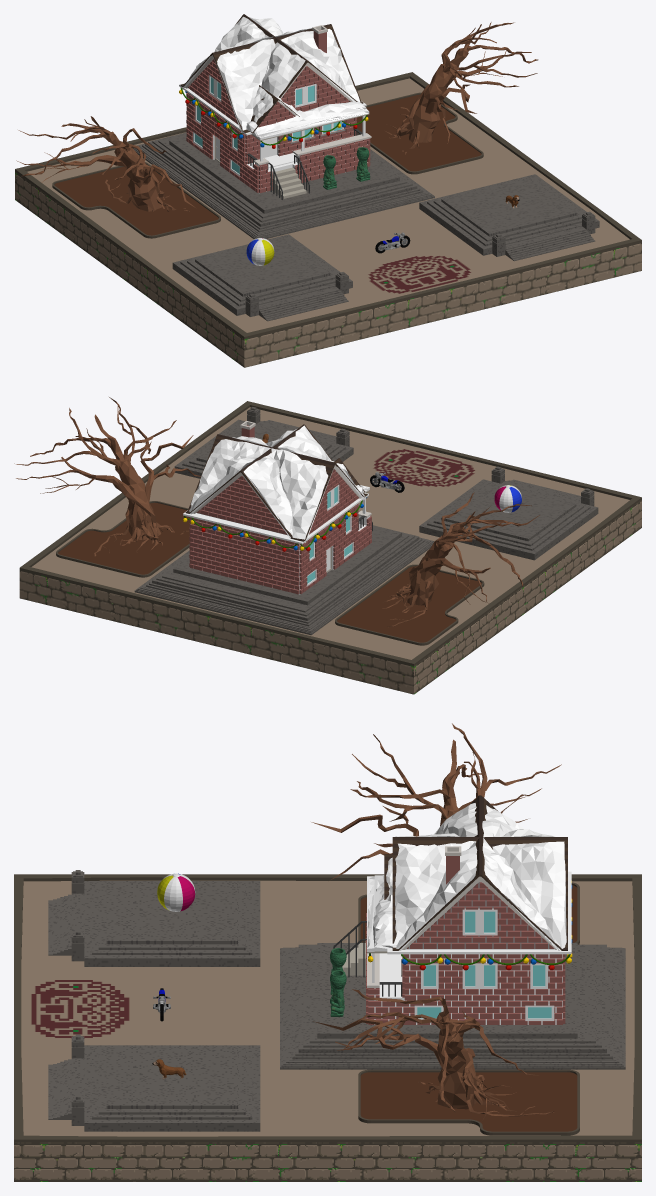
3 renders of one model, top to bottom at view 1: azimuth 30°, elevation 25°; view 2: azimuth 150°, elevation 25°; view 3: azimuth 270°, elevation 25°, orthographic. The views are drawn at different scales.
Visible parts, largest first — view 1: Cube.011, Cube.1419, OBJRANDOM_BEACHBALL; view 2: Cube.011, Cube.1419, OBJRANDOM_BEACHBALL; view 3: Cube.011, Cube.1419, OBJRANDOM_BEACHBALL.
Part boxes in pixels (x1,y1,x2,y2): Cube.011: [15, 22, 641, 367]; Cube.1419: [179, 14, 371, 199]; OBJRANDOM_BEACHBALL: [246, 238, 274, 265]; Cube.011: [14, 397, 641, 694]; Cube.1419: [183, 421, 372, 594]; OBJRANDOM_BEACHBALL: [494, 485, 521, 512]; Cube.011: [14, 723, 641, 1181]; Cube.1419: [333, 795, 572, 1024]; OBJRANDOM_BEACHBALL: [157, 873, 195, 911].
Bounding box in the file's own units: 5099 × 1683 × 4000.
38 materials, 6 textured.
